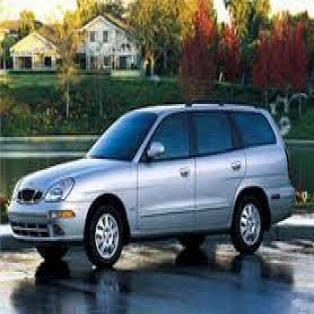Auto: (6, 99, 298, 272)
